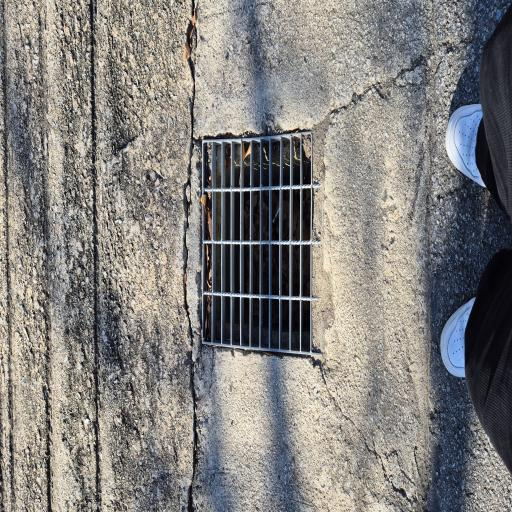drain: (201, 132, 321, 354)
